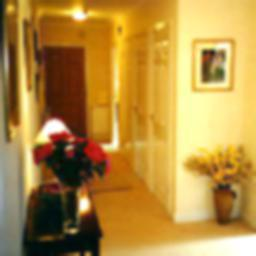Matera: (196, 146, 249, 229)
Puerta: (149, 27, 173, 209), (128, 33, 150, 179)
